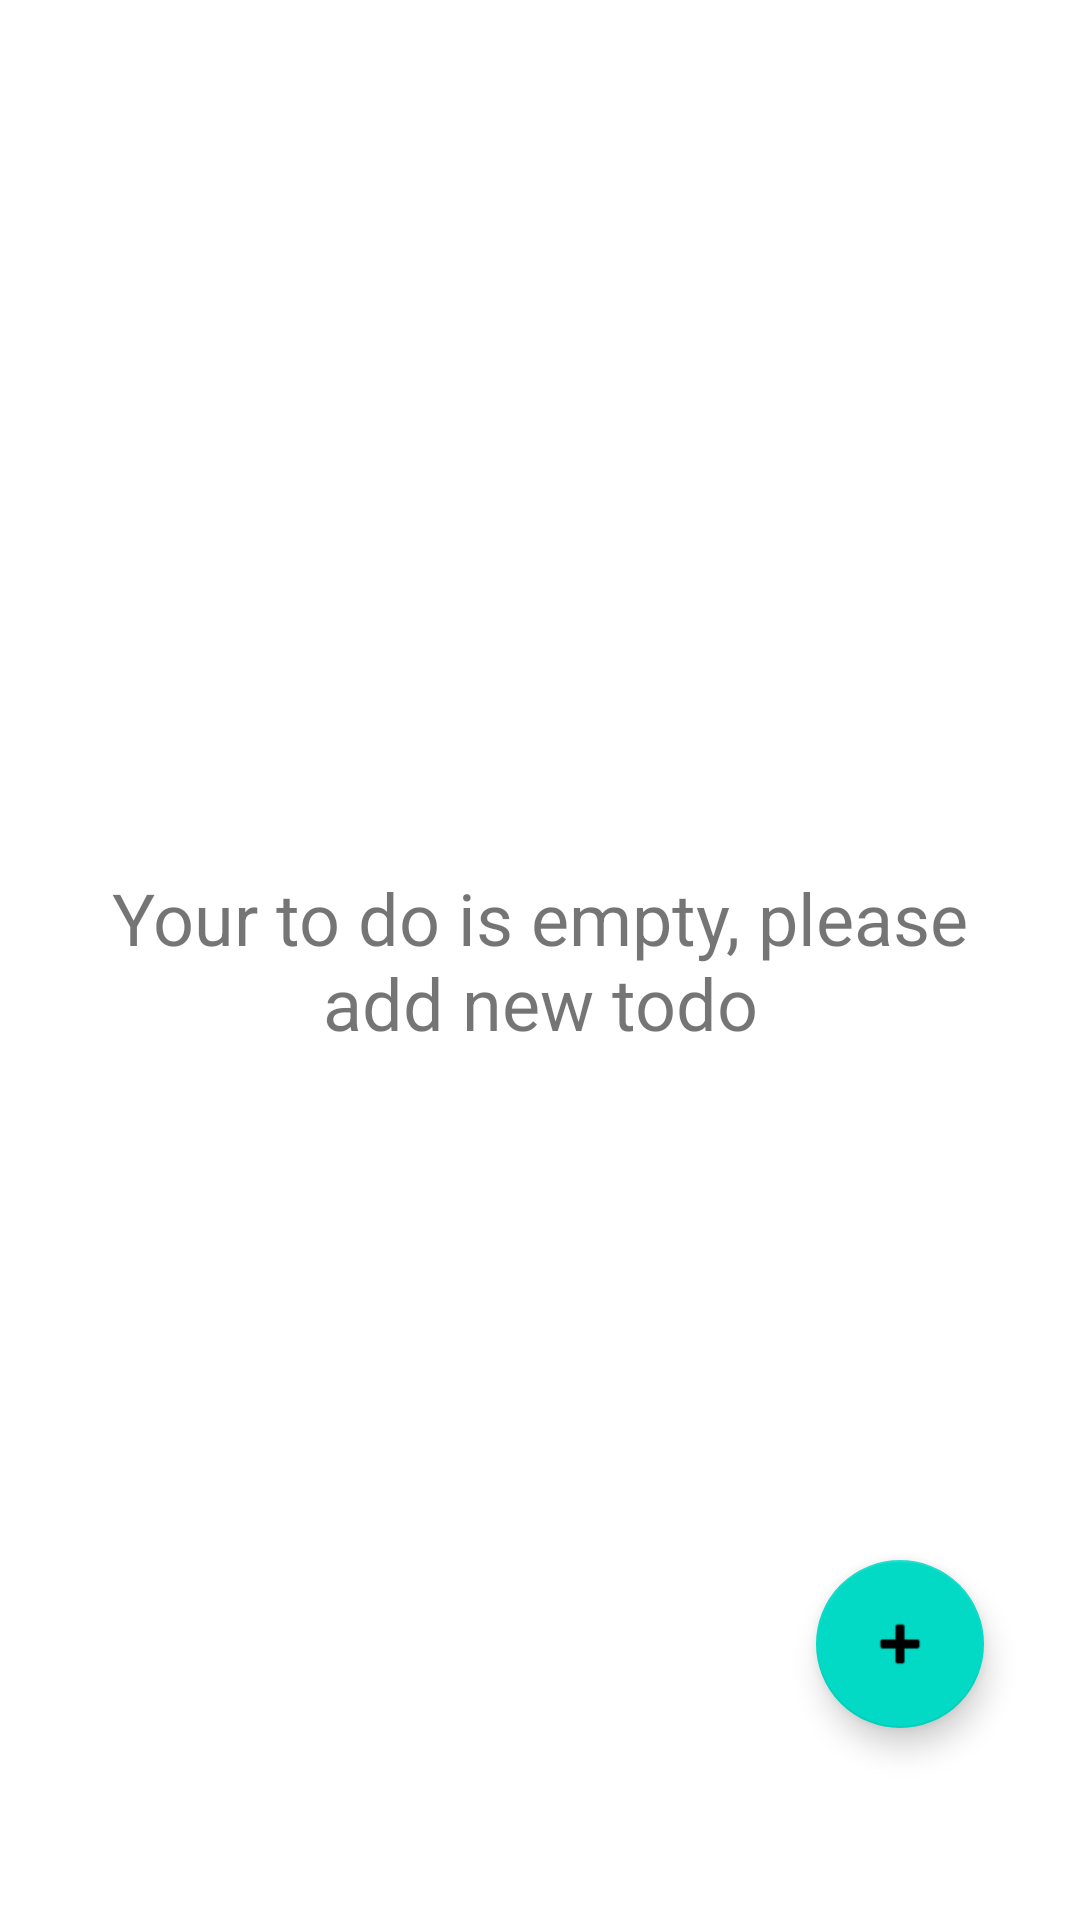

Icon click points for this 1080px x 1920px phone screenshot, format (x=x, y=y):
add: (x=900, y=1644)
